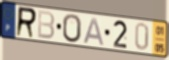0: (134, 22, 150, 53)
2: (113, 19, 128, 50)
A: (82, 16, 106, 47)
B: (37, 9, 56, 41)
O: (62, 13, 83, 44)
R: (14, 5, 38, 40)
